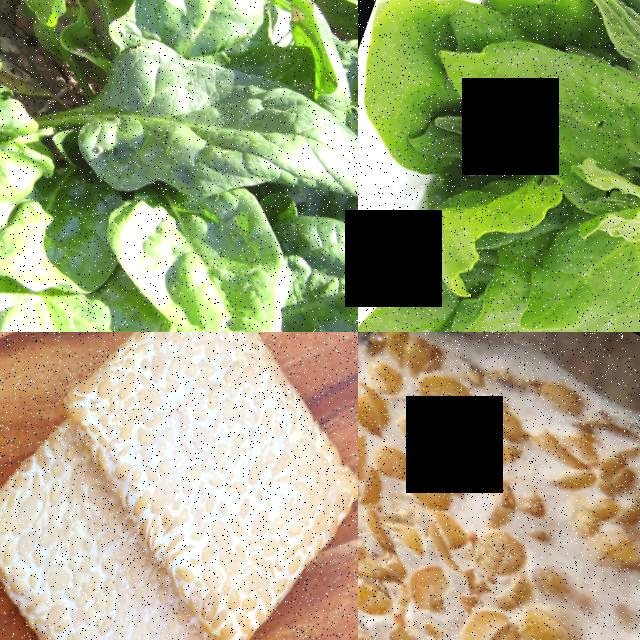spinach: (87, 7, 358, 238), (97, 153, 321, 332), (414, 0, 620, 186), (406, 141, 556, 313), (512, 199, 640, 332), (0, 39, 63, 251), (0, 246, 148, 332), (127, 0, 286, 76), (430, 281, 611, 332), (358, 238, 455, 332), (477, 0, 619, 45)
tempeh: (358, 332, 640, 640), (34, 332, 281, 577), (150, 373, 358, 640), (0, 451, 241, 640)
